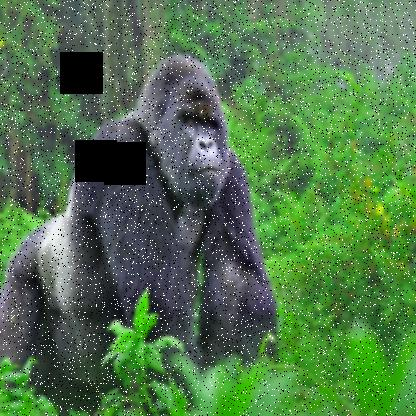Gorilla gorilla: (1, 52, 280, 415)
